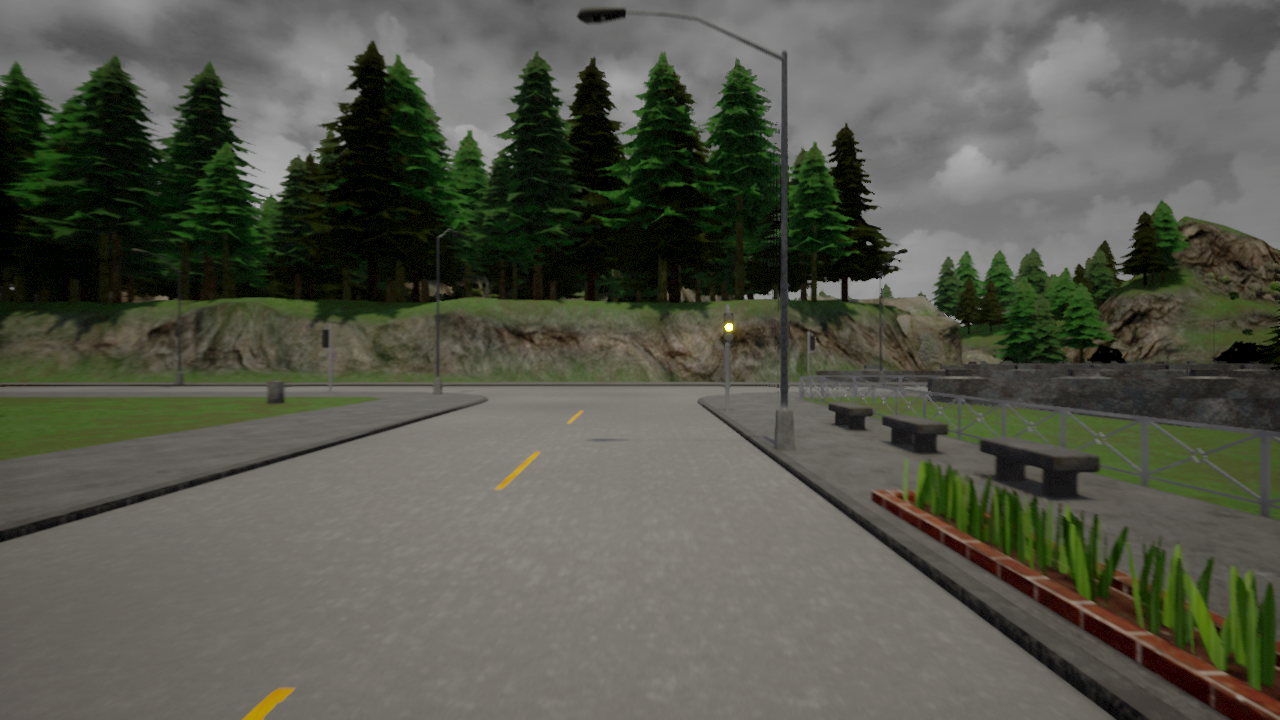yellow: (722, 312, 736, 346)
